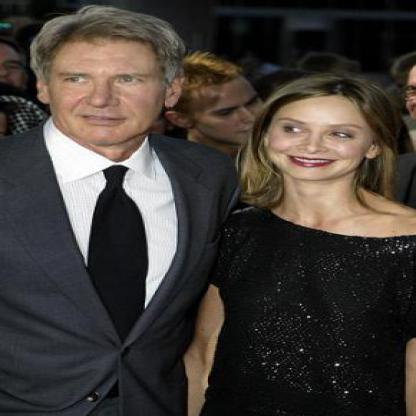face: (46, 19, 170, 147), (267, 82, 376, 185), (183, 65, 269, 149)
